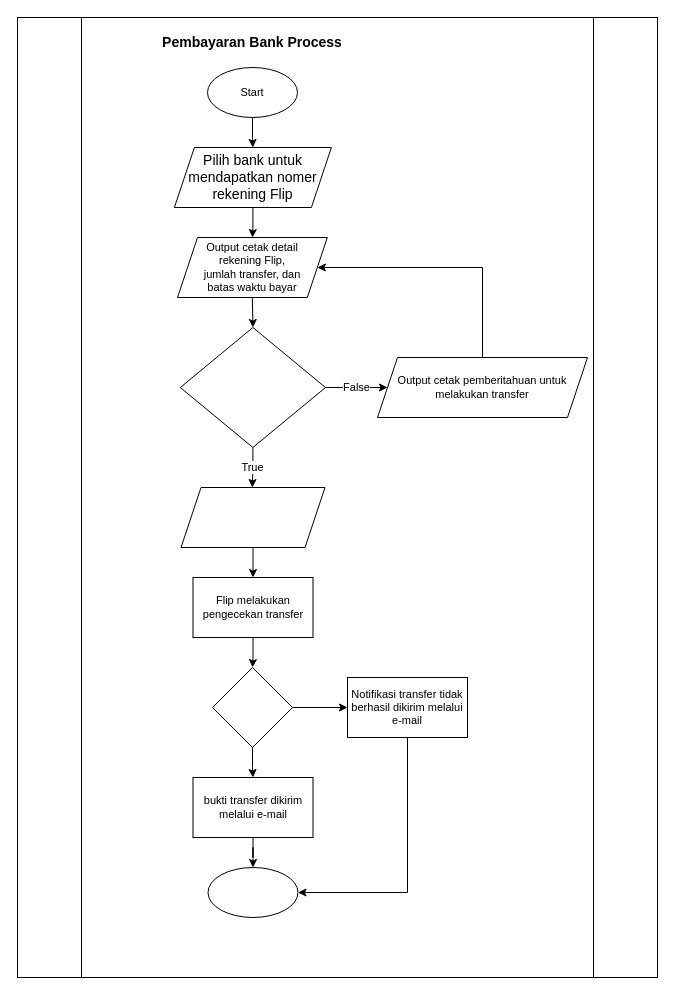
This 675x995 diagram has some shape labels left out. Each missing label, with the centre of its shape:
End: (252,892)
Output cetak status transaksi: (252,517)
Sudah melakukan transfer?: (252,387)
Transfer sesuai?: (252,707)
